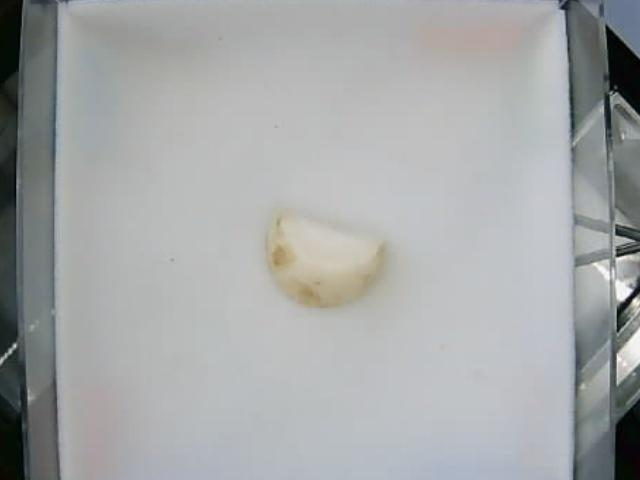Mooli: (264, 207, 385, 308)
